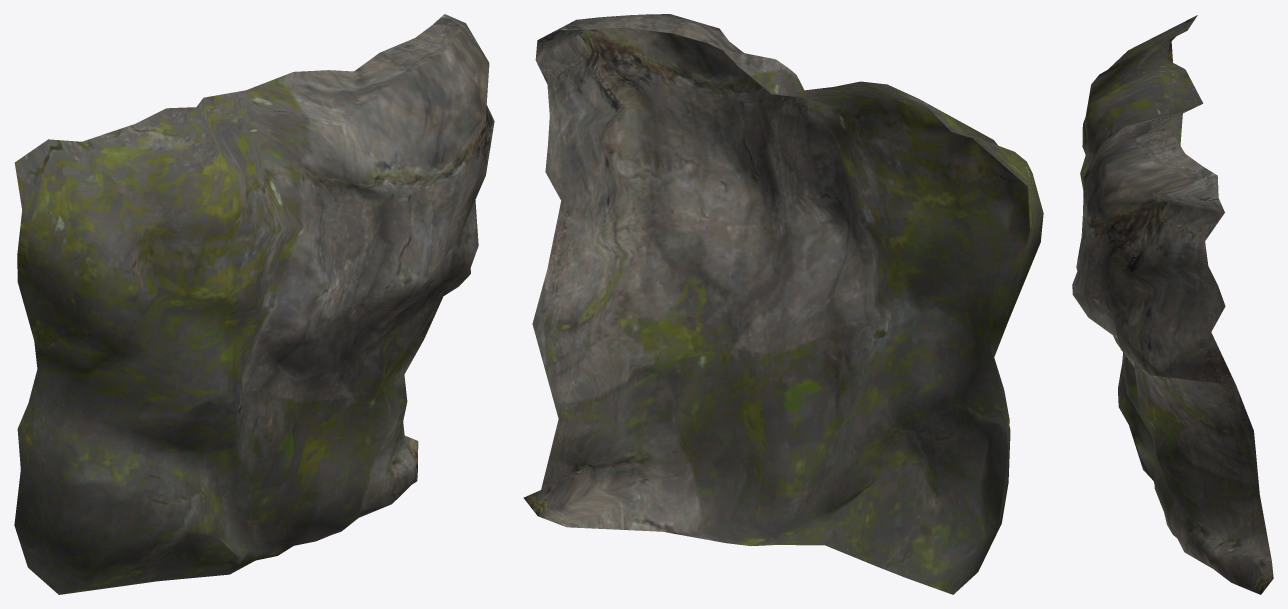
The model's file is Rock17.fbx.
3 renders of one model, left to right at view 1: azimuth 30°, elevation 25°; view 2: azimuth 150°, elevation 25°; view 3: azimuth 270°, elevation 25°, orthographic. The views are drawn at different scales.
Parts seen in each view (by area): view 1: LV_Campagna_MoleCricketsDen_piece6_SM_KSV; view 2: LV_Campagna_MoleCricketsDen_piece6_SM_KSV; view 3: LV_Campagna_MoleCricketsDen_piece6_SM_KSV.
Boxes of the visible parts, x1,y1,x2,y2 form: LV_Campagna_MoleCricketsDen_piece6_SM_KSV: (14,14,494,594); LV_Campagna_MoleCricketsDen_piece6_SM_KSV: (523,14,1043,594); LV_Campagna_MoleCricketsDen_piece6_SM_KSV: (1072,15,1273,594).
Size of the model in its own units: 4.4 by 4.34 by 1.82.
1 material, 1 textured.
